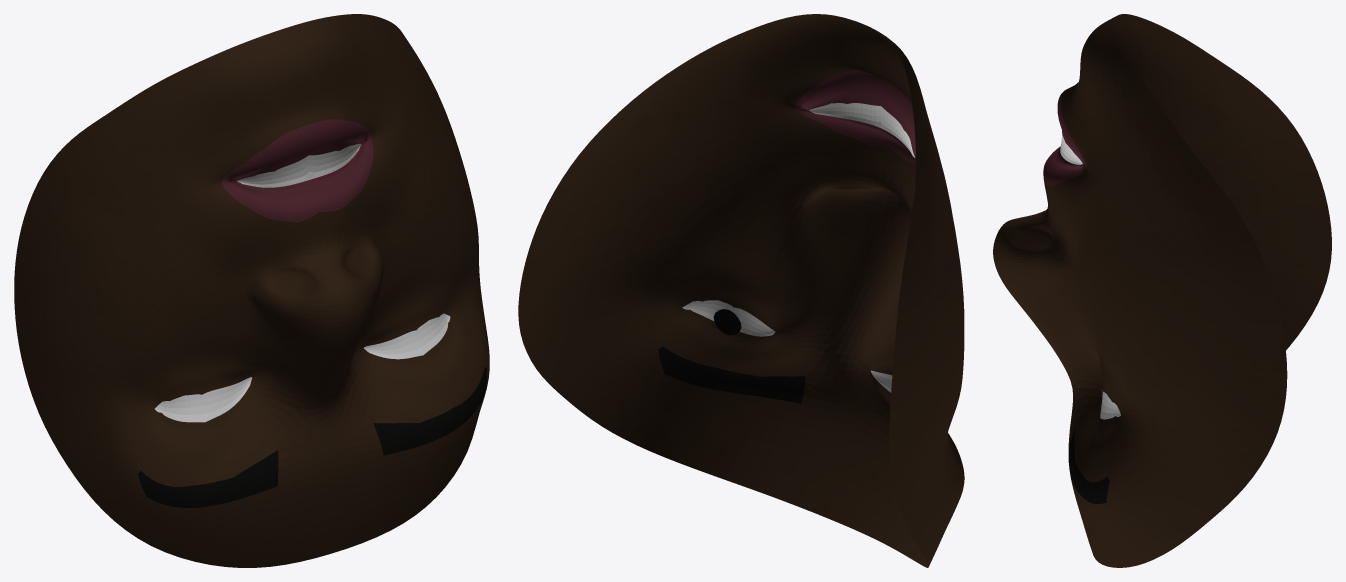
File: VID-20250515-WA0006_f_00932.obj
The picture shows the model from 3 angles, left to right: view 1: azimuth 30°, elevation 25°; view 2: azimuth 150°, elevation 25°; view 3: azimuth 270°, elevation 25°; orthographic projection. The views are drawn at different scales.
Visible parts, largest first — view 1: face_mesh_subdivided; view 2: face_mesh_subdivided; view 3: face_mesh_subdivided.
Part boxes in pixels (x1,y1,x2,y2): face_mesh_subdivided: (14,14,489,567); face_mesh_subdivided: (518,14,964,567); face_mesh_subdivided: (993,14,1331,567).
Size of the model in its own units: 0.4206 by 0.5144 by 0.3159.
